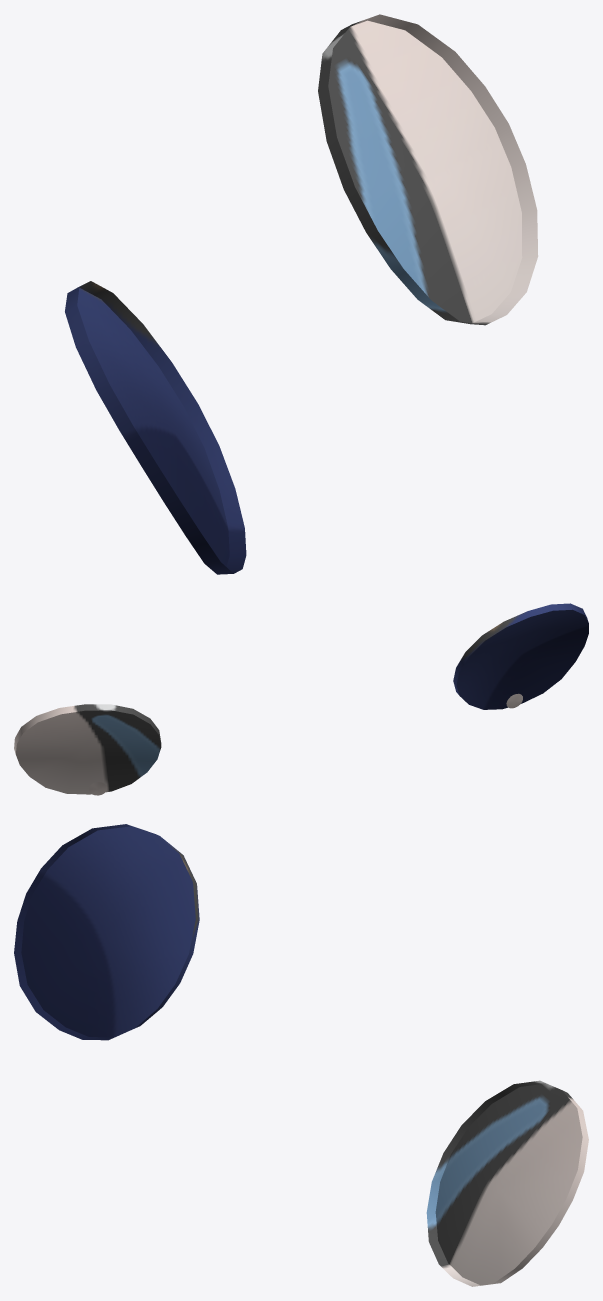
3 views of the same model, one above another, from view 1: azimuth 30°, elevation 25°; view 2: azimuth 150°, elevation 25°; view 3: azimuth 270°, elevation 25° (orthographic). The views are drawn at different scales.
Parts seen in each view (by area): view 1: final.009_final.079; view 2: final.009_final.079; view 3: final.009_final.079.
Part boxes in pixels (x1,y1,x2,y2): final.009_final.079: (65,14,538,574); final.009_final.079: (14,603,588,795); final.009_final.079: (14,824,588,1286).
Bounding box in the file's own units: 1.77 × 0.7794 × 1.7.
